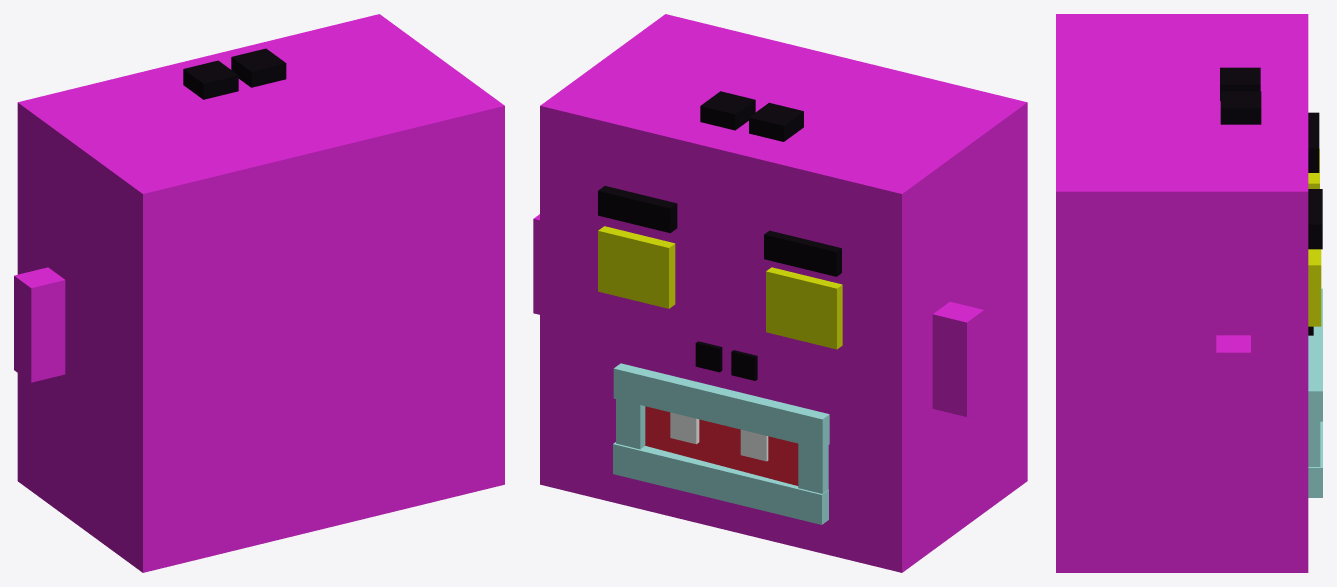
Rendered from zombie _morado.fbx.
3 renders of one model, left to right at view 1: azimuth 30°, elevation 25°; view 2: azimuth 150°, elevation 25°; view 3: azimuth 270°, elevation 25°, orthographic.
Visible parts, largest first — view 1: Plano; view 2: Plano; view 3: Plano.
Part boxes in pixels (x1,y1,x2,y2): Plano: (14, 14, 504, 572); Plano: (533, 14, 1027, 572); Plano: (1056, 14, 1322, 572).
Bounding box in the file's own units: 238 × 208 × 127.
